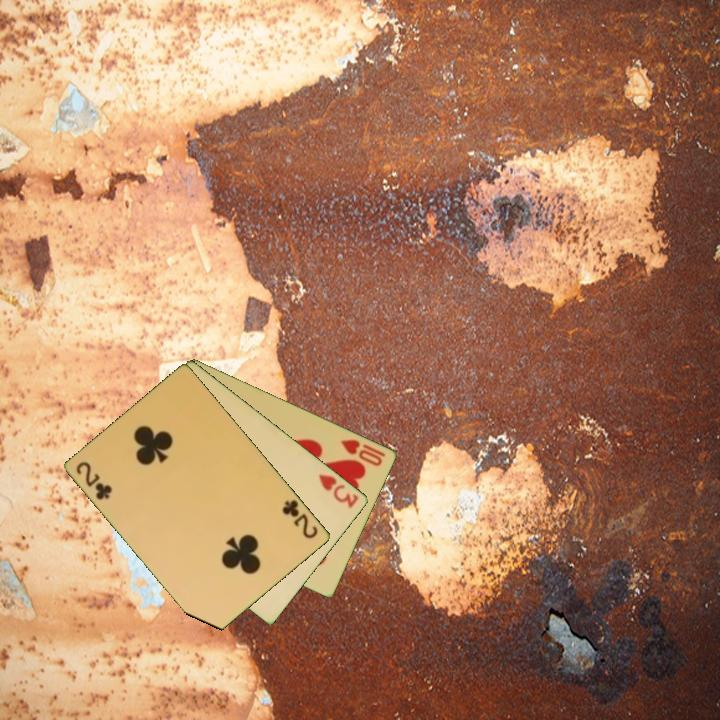10h: (337, 435, 386, 469)
2c: (73, 458, 116, 503), (279, 496, 321, 542)
3h: (315, 470, 362, 511)
